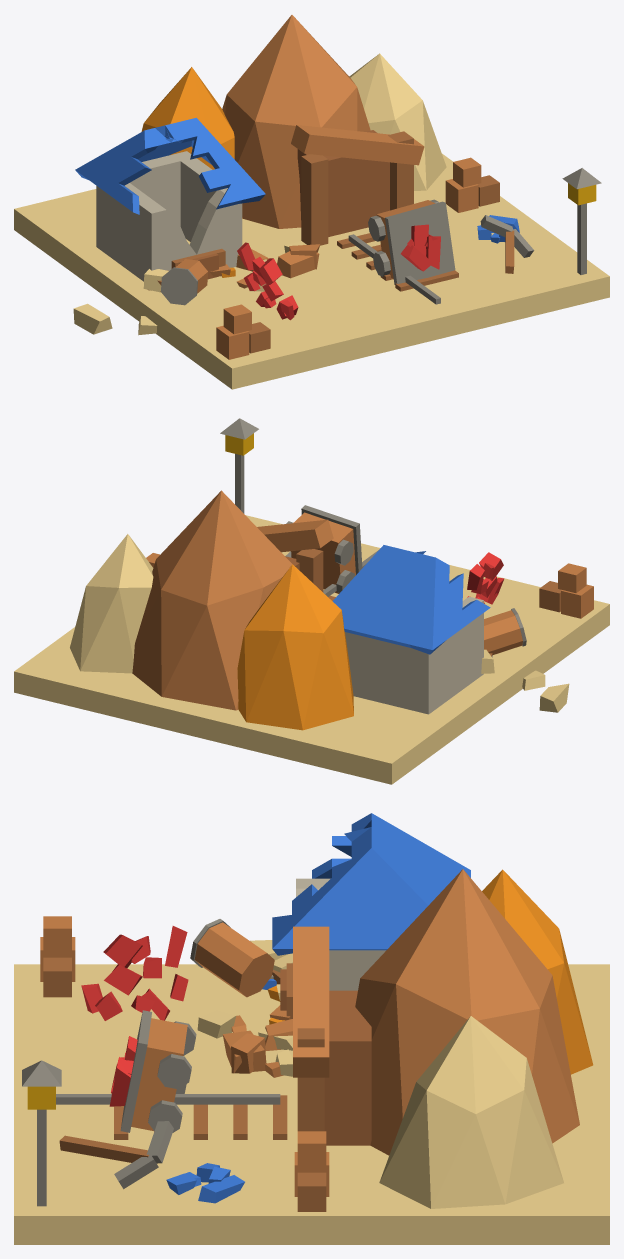
File: mine_t2_v2_dmg1.glb
The picture shows the model from 3 angles, top to bottom: view 1: azimuth 30°, elevation 25°; view 2: azimuth 150°, elevation 25°; view 3: azimuth 270°, elevation 25°; orthographic projection. The views are drawn at different scales.
Parts seen in each view (by area): view 1: mine_t2_v2_dmg1; view 2: mine_t2_v2_dmg1; view 3: mine_t2_v2_dmg1.
Part boxes in pixels (x1,y1,x2,y2): mine_t2_v2_dmg1: [14, 15, 609, 389]; mine_t2_v2_dmg1: [14, 418, 609, 784]; mine_t2_v2_dmg1: [14, 813, 609, 1244].
Bounding box in the file's own units: 0.855 × 0.38 × 0.75.
Materials: 1 (1 with a texture image).
